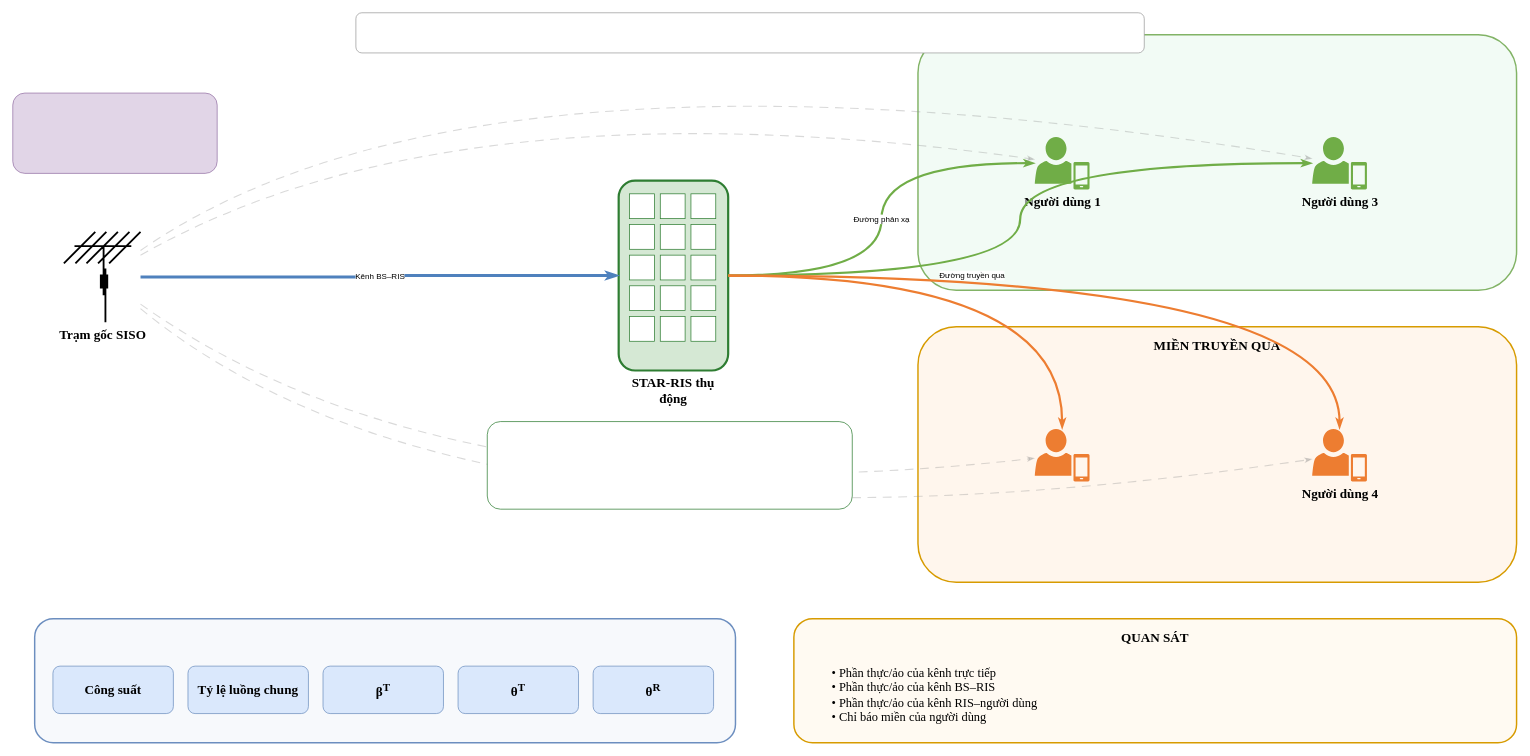
The diagram is 1530 pixels wide and 756 high, and some of its shapes have lost their labels. Each missing label, with the box of its shape:
Luồng chung s c Các luồng riêng s 1 , s 2 , s 3 , s 4: (12, 92, 217, 173)
MIỀN PHẢN XẠ: (917, 34, 1517, 291)
Người dùng 2: (1034, 429, 1089, 481)
Nét xám đứt: đường trực tiếp | Xanh lá: đường phản xạ | Cam: đường truyền qua: (355, 12, 1144, 53)
VÉC-TƠ HÀNH ĐỘNG: (34, 618, 736, 743)
φ n T = √β n T e jθ n T φ n R = √(1−β n T )e jθ n R: (487, 421, 852, 509)
